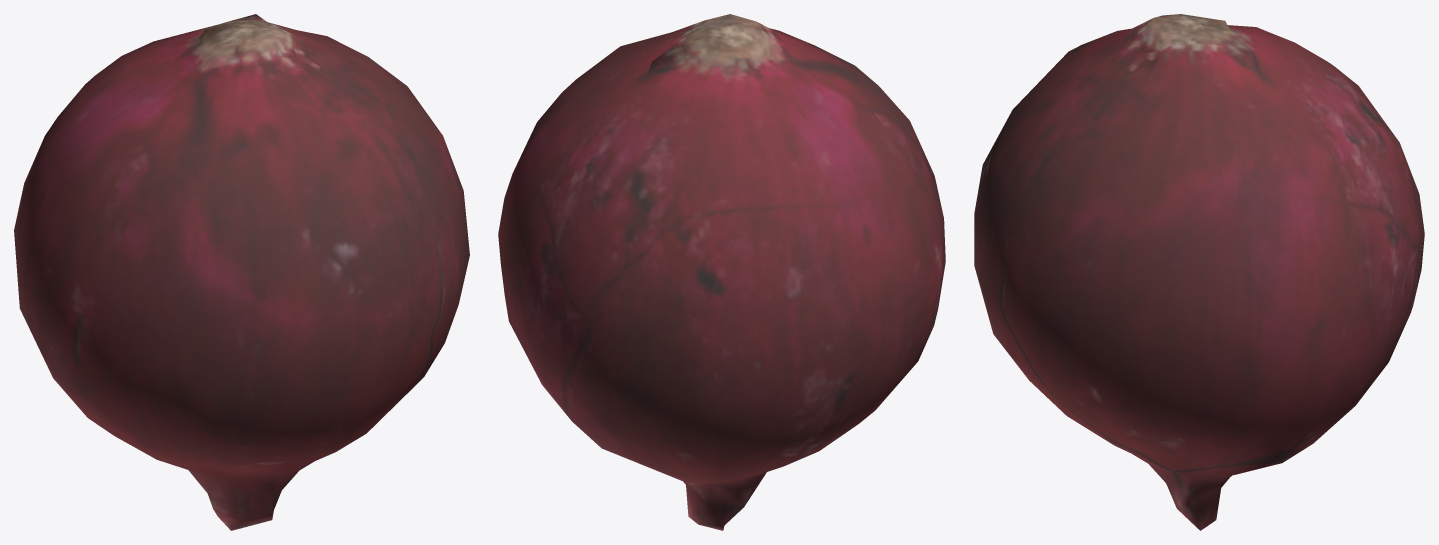
The picture shows the model from 3 angles, left to right: view 1: azimuth 30°, elevation 25°; view 2: azimuth 150°, elevation 25°; view 3: azimuth 270°, elevation 25°; orthographic projection. The views are drawn at different scales.
Parts seen in each view (by area): view 1: onion big_3; view 2: onion big_3; view 3: onion big_3.
Part boxes in pixels (<box>): onion big_3: <box>14,14,469,530</box>; onion big_3: <box>498,14,945,530</box>; onion big_3: <box>974,14,1424,530</box>.
Size of the model in its own units: 0.0509 by 0.0622 by 0.0512.
Materials: 1 (1 with a texture image).
